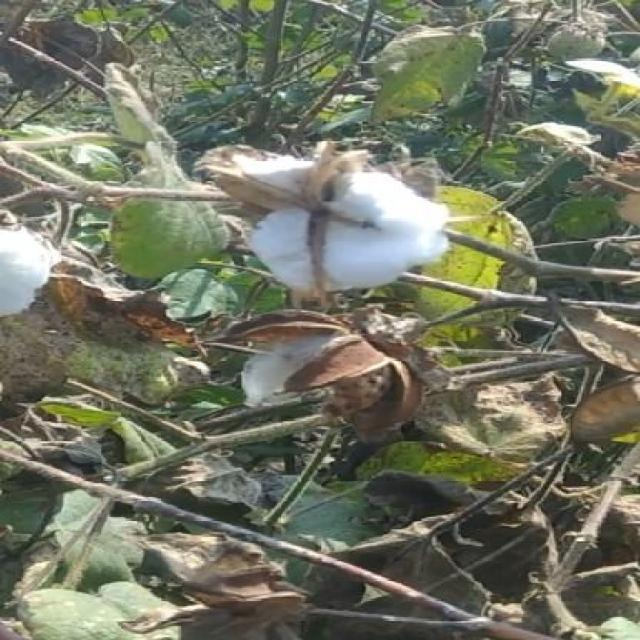cotton_ready: (187, 140, 458, 300)
